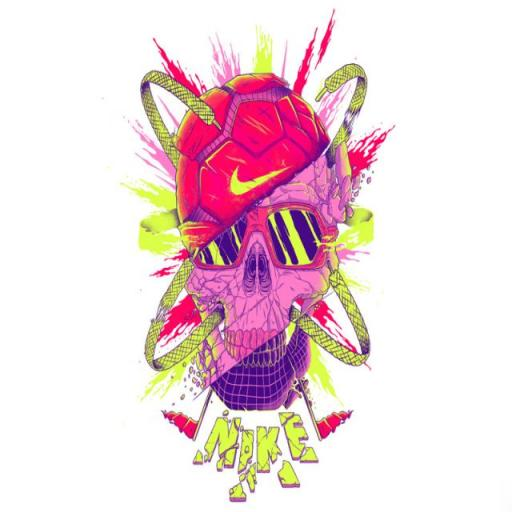Nike: (228, 166, 292, 198)
